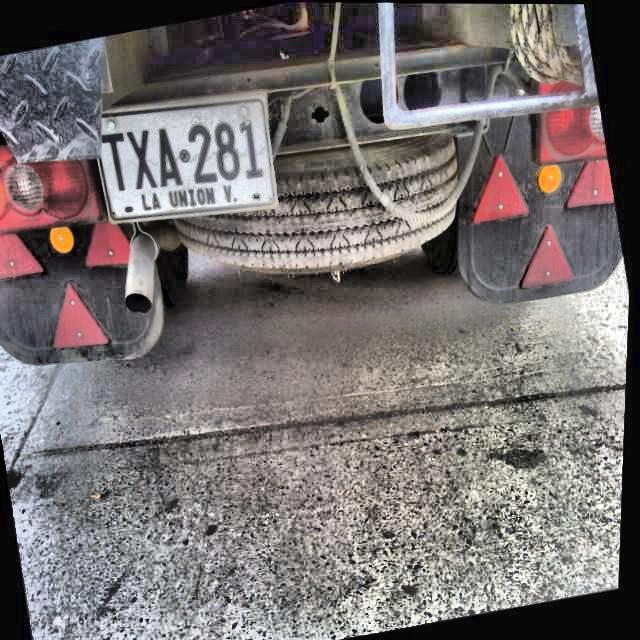plate: (101, 97, 274, 221)
